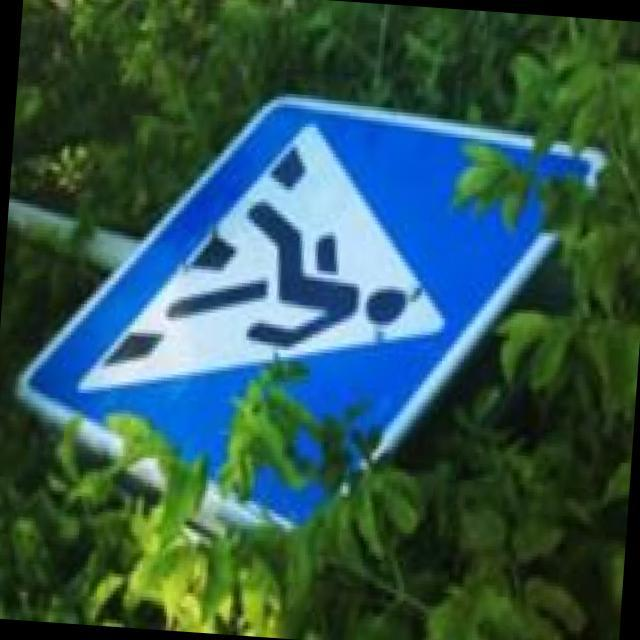obstructed_road_sign: (19, 98, 604, 524)
